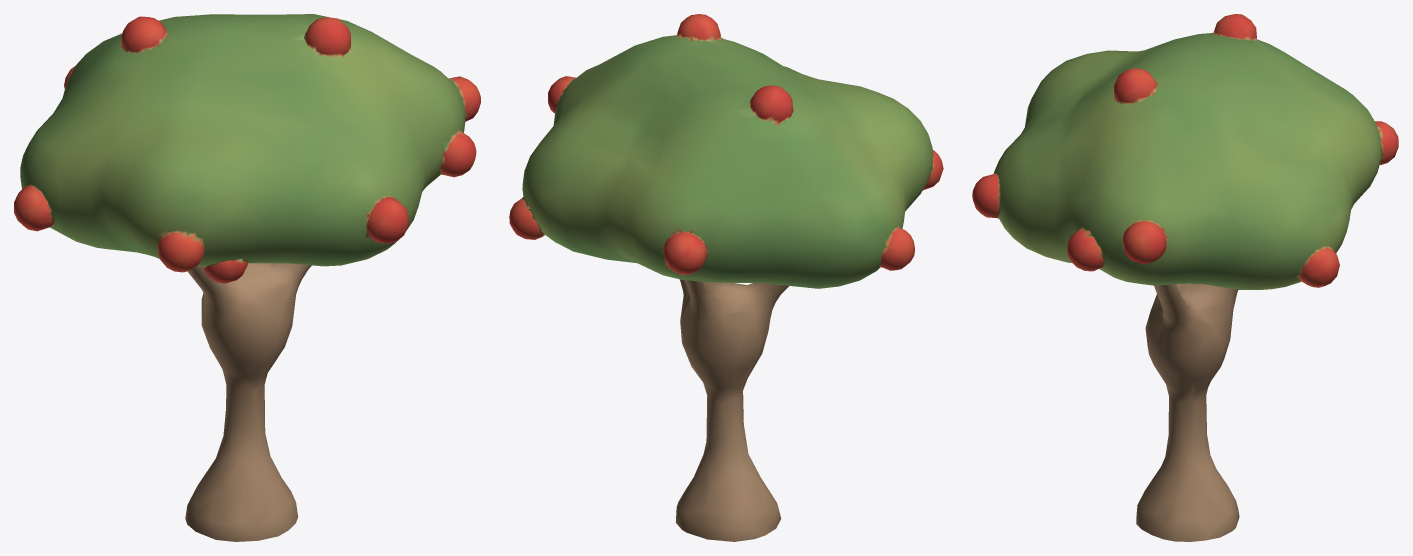
File: fruit-tree1.glb
3 renders of one model, left to right at view 1: azimuth 30°, elevation 25°; view 2: azimuth 150°, elevation 25°; view 3: azimuth 270°, elevation 25°, orthographic. The views are drawn at different scales.
Visible parts, largest first — view 1: fruit_crown_wide, body; view 2: fruit_crown_wide, body; view 3: fruit_crown_wide, body.
Part boxes in pixels (<box>): fruit_crown_wide: <box>14,14,480,283</box>; body: <box>185,263,311,541</box>; fruit_crown_wide: <box>509,14,943,288</box>; body: <box>675,279,788,541</box>; fruit_crown_wide: <box>972,14,1398,289</box>; body: <box>1136,283,1239,541</box>.
Size of the model in its own units: 3.35 by 3.82 by 3.09.
